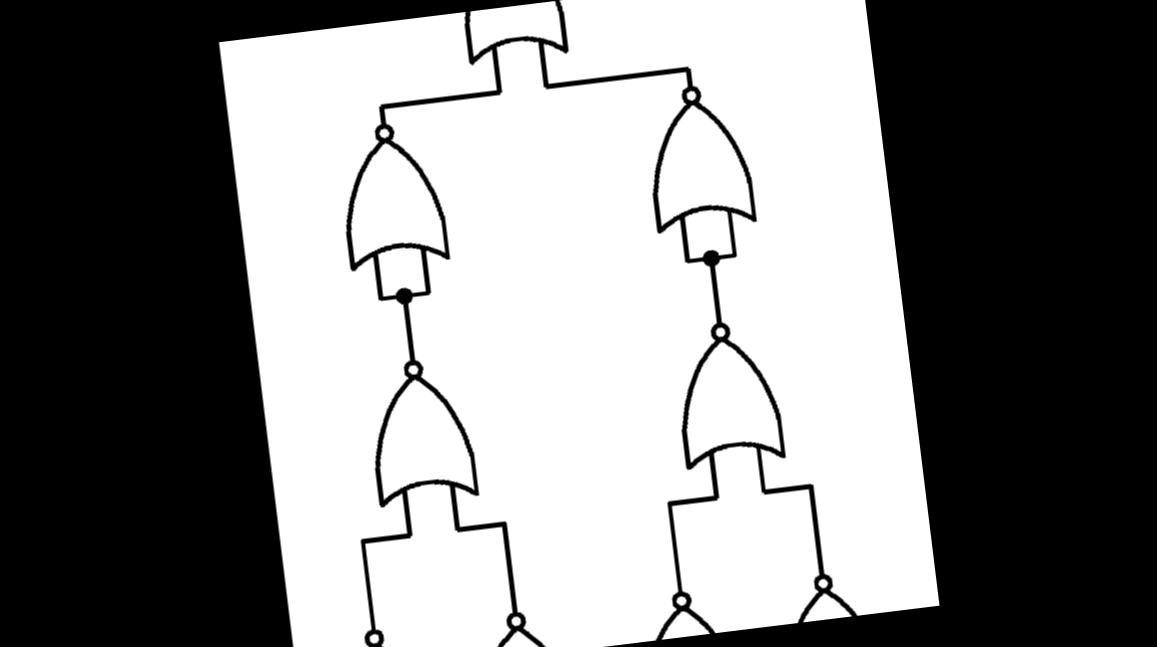nor: (344, 342, 500, 523), (619, 70, 772, 247), (651, 304, 800, 481), (318, 110, 462, 290), (442, 0, 586, 81), (612, 559, 748, 644), (758, 554, 886, 627), (448, 591, 588, 647), (312, 608, 438, 647)
